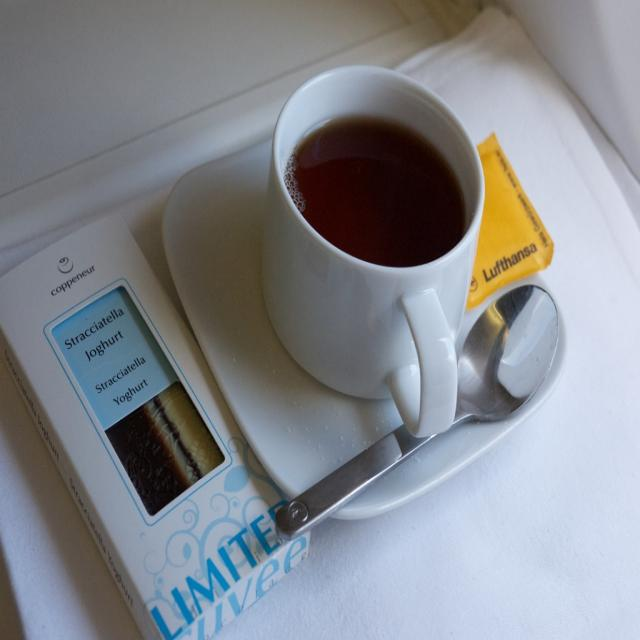Coffee: (283, 114, 465, 271)
Tea: (284, 117, 465, 267)
